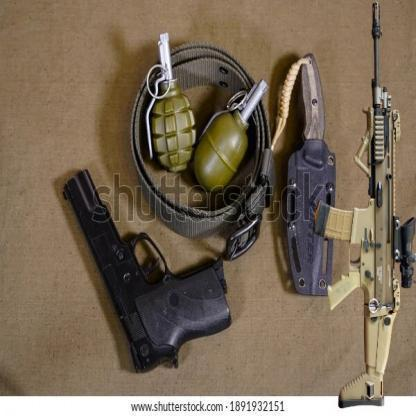Grenade: (195, 79, 271, 190), (144, 32, 196, 170)
Gun: (313, 0, 416, 409)
Knife: (284, 52, 337, 300)
Pistol: (61, 167, 232, 374)
